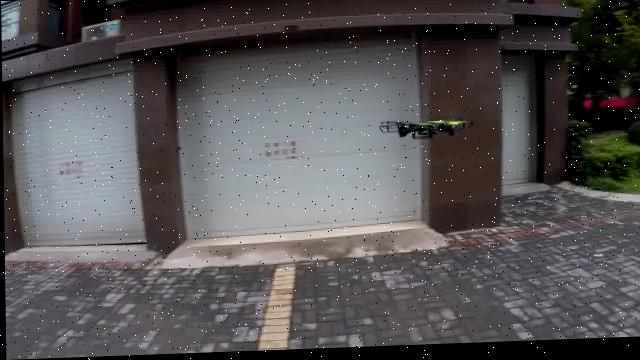drone: (369, 114, 474, 149)
